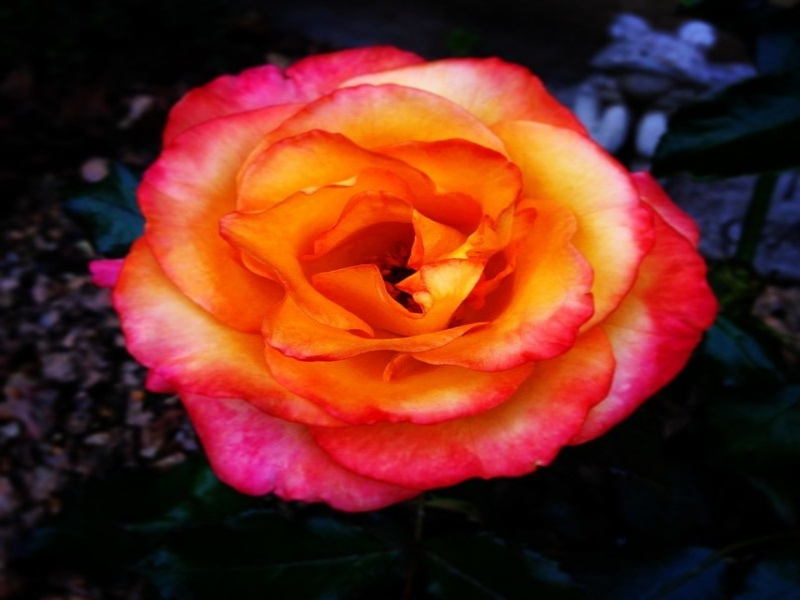rose: (79, 30, 738, 506)
